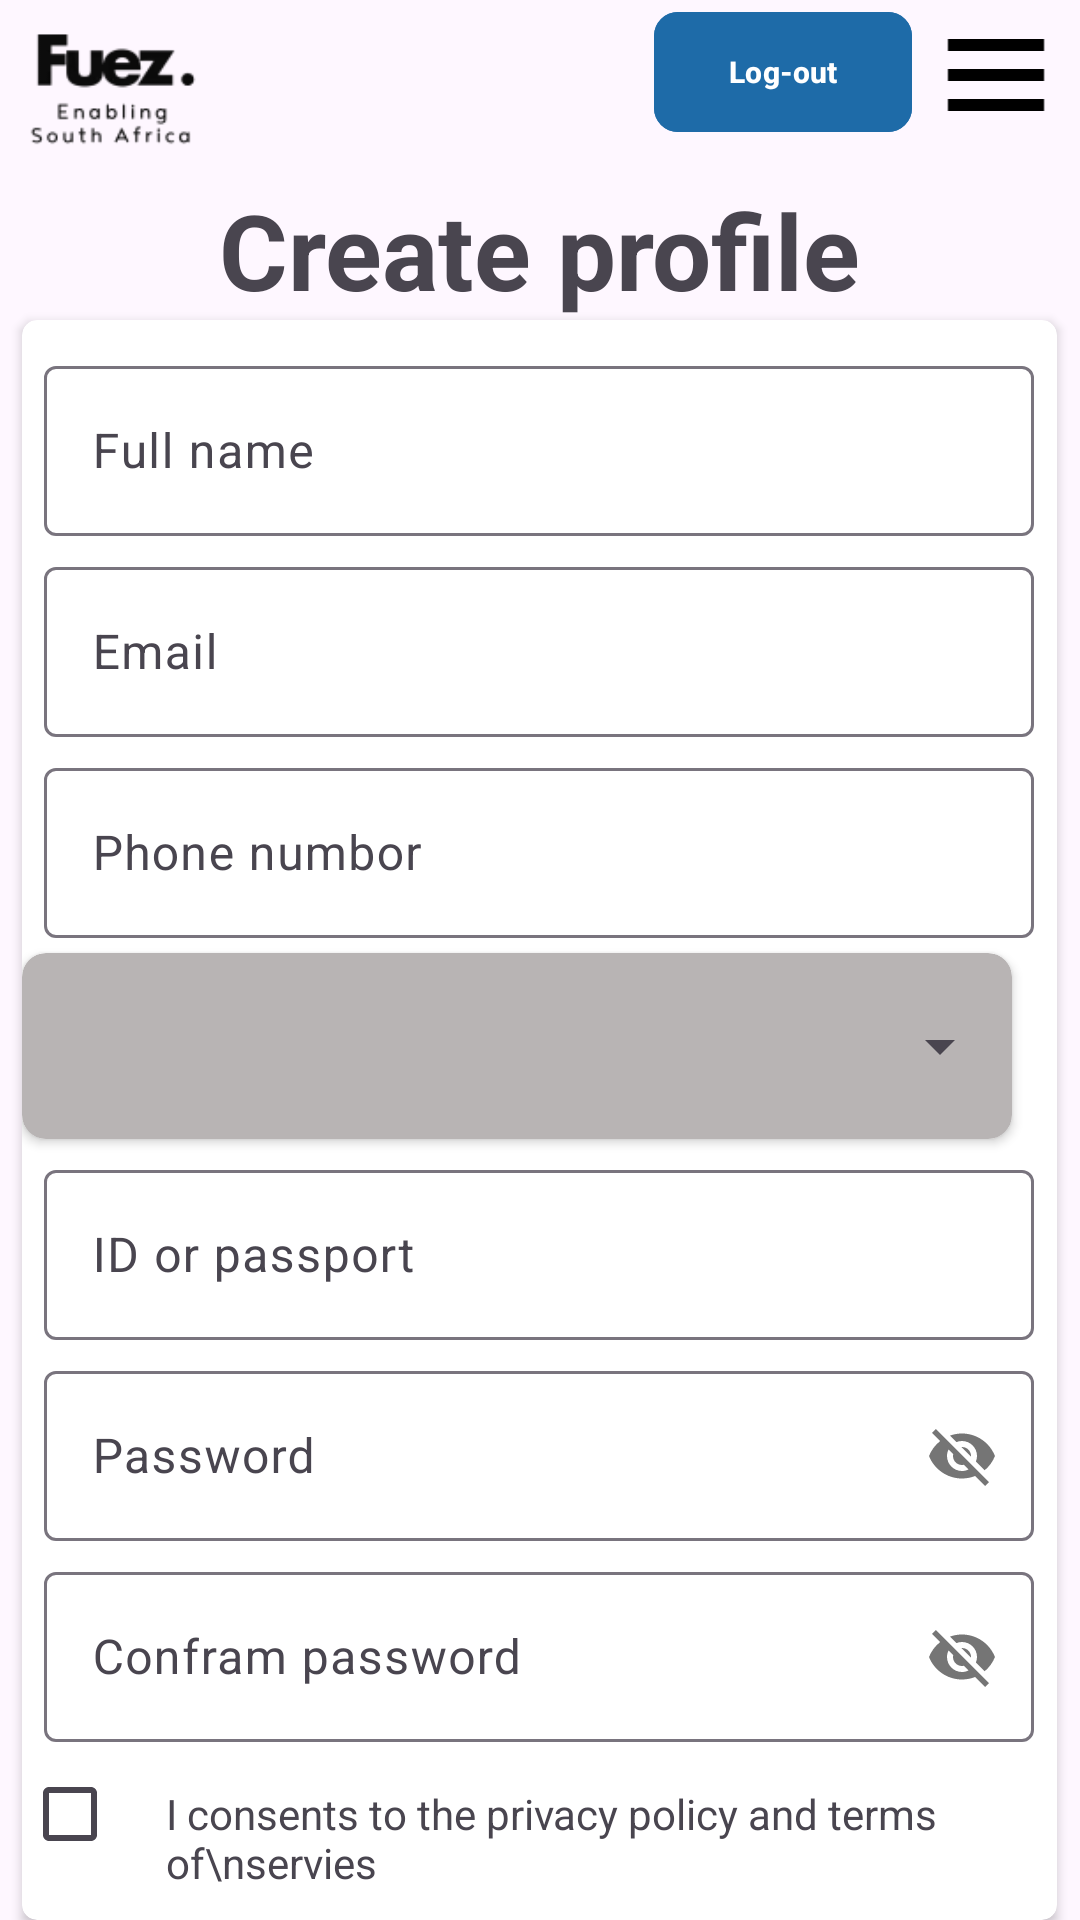

Icon click points for this 1080px x 1920px phone screenshot, format [x,y]:
dehaze: [996,75]
